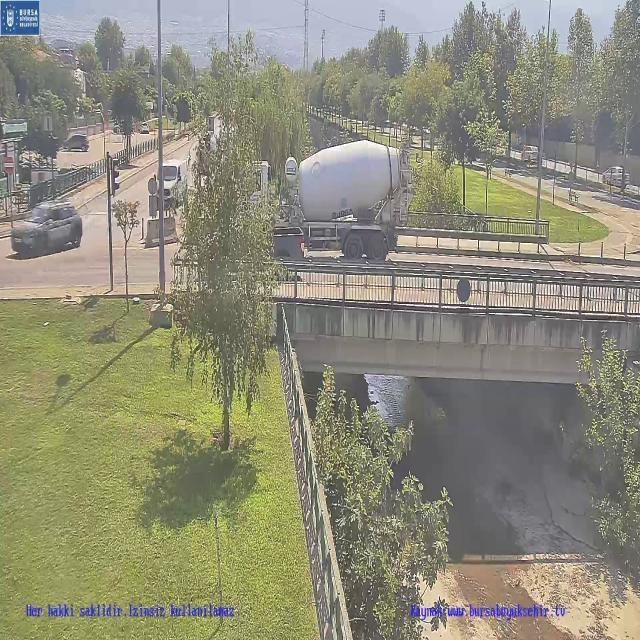Car: (7, 196, 94, 250), (598, 160, 628, 200), (518, 135, 546, 165)
Truck: (221, 136, 418, 278), (60, 130, 96, 153)
Van: (152, 156, 188, 216)
